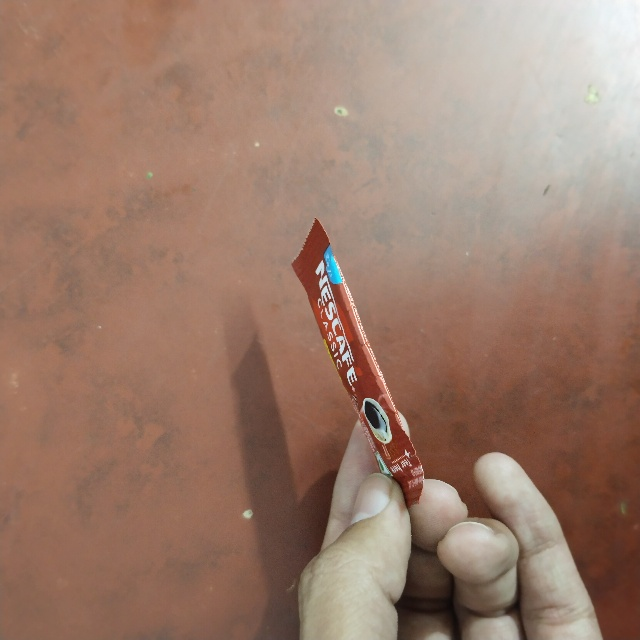Nescafe Coffee: (271, 245, 330, 514)
